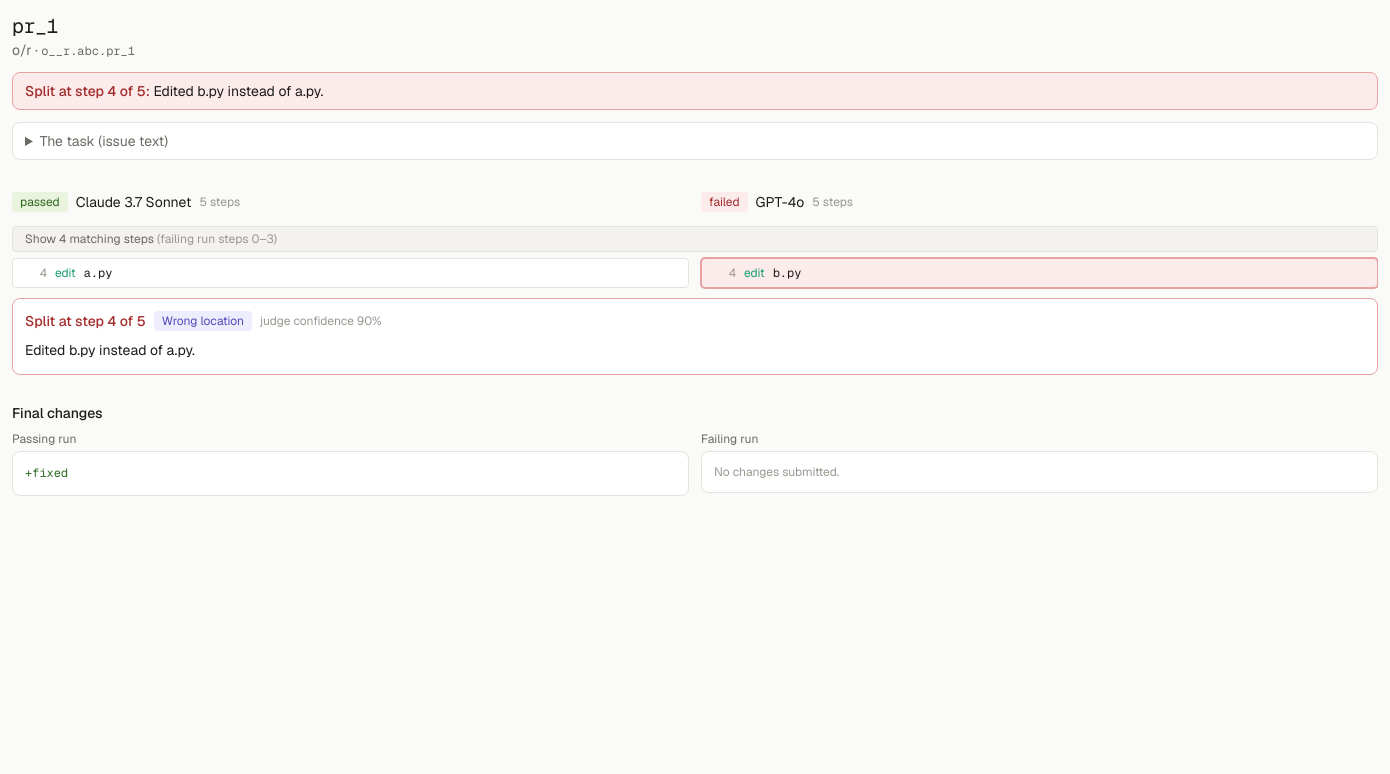
Test: CompareView › expands a strip and a step
Step 1. Click the button "Show 4 matching steps (failing run steps 0–3)" → (41, 239), box x1=12 y1=226 x2=1378 y2=252
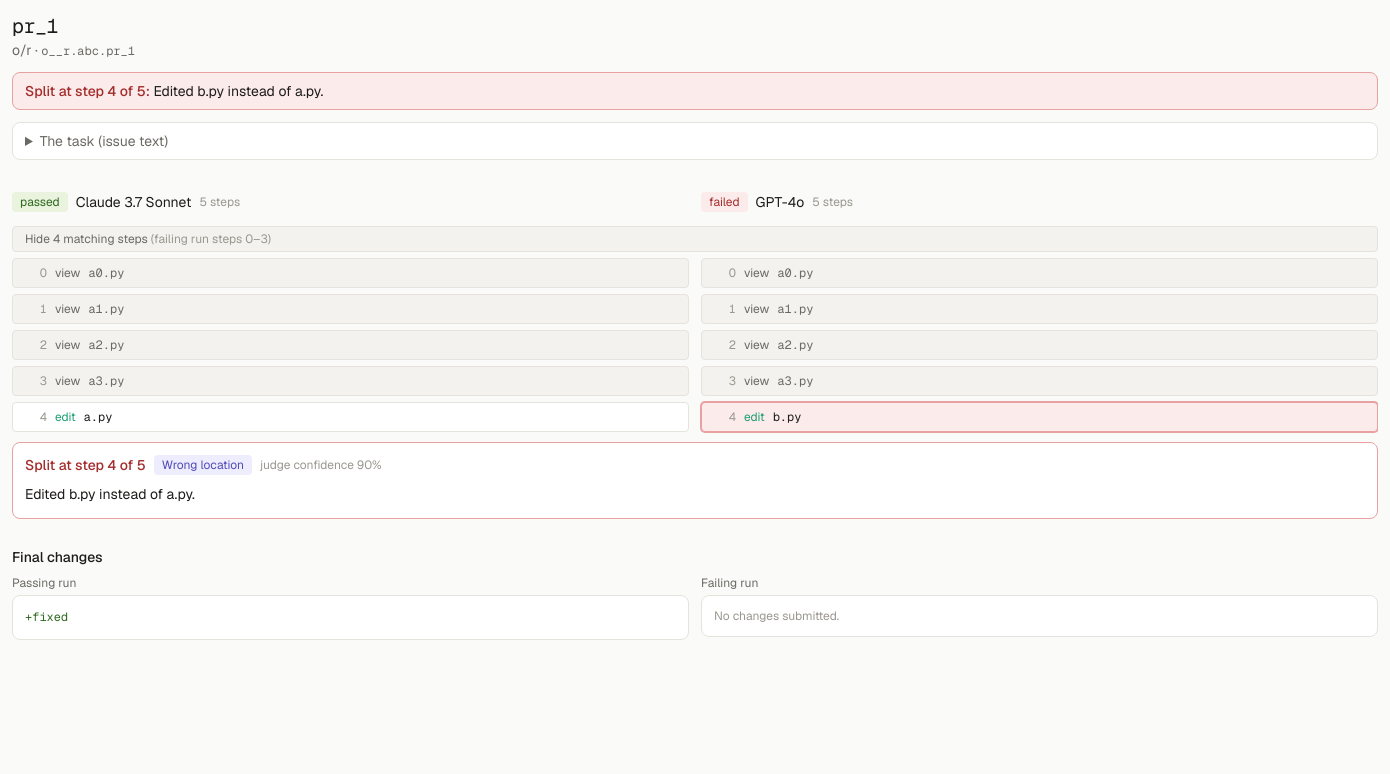
expect the text "a0.py" is shown 2 times: met
Step 2. Click the 2nd text "a0.py" → (795, 273), box x1=777 y1=265 x2=813 y2=281
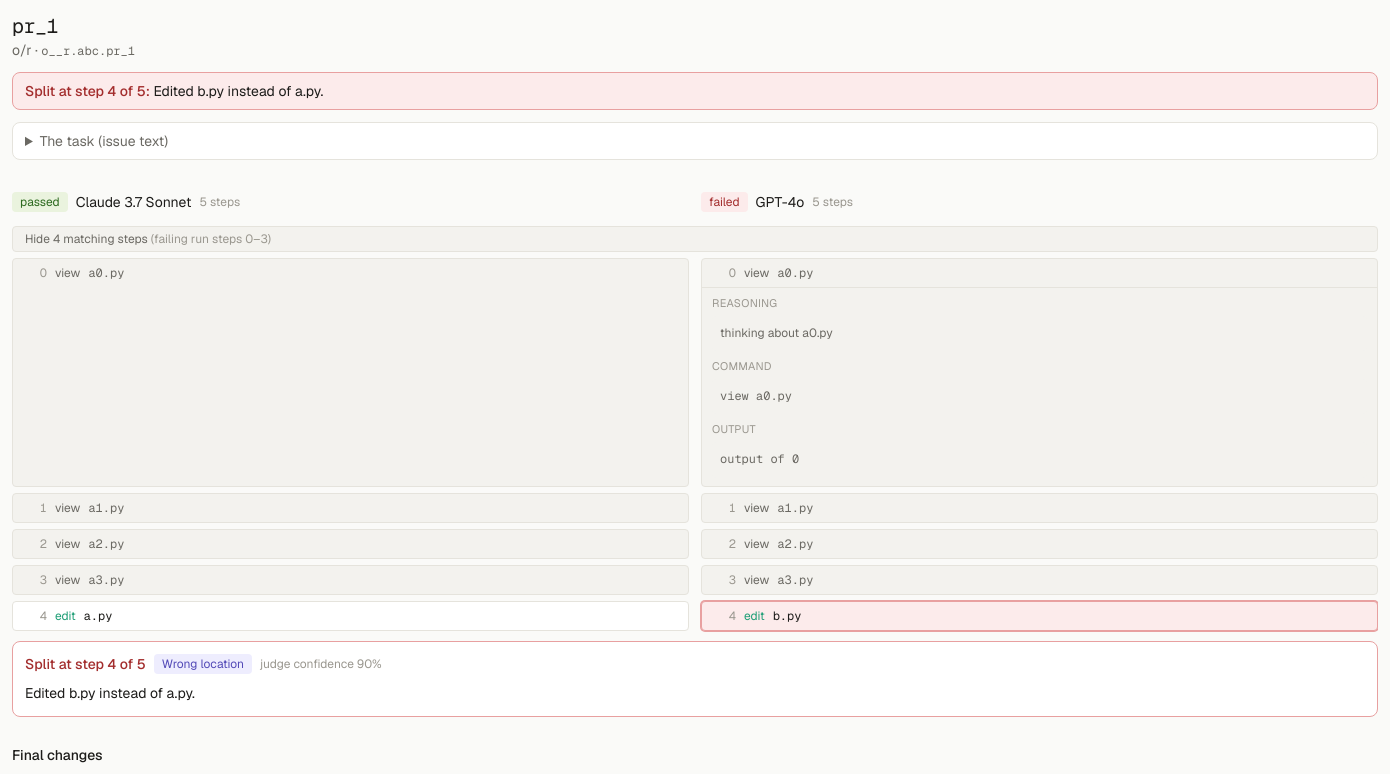
expect the text "output of 0" is shown: met, box x1=712 y1=442 x2=1367 y2=478
